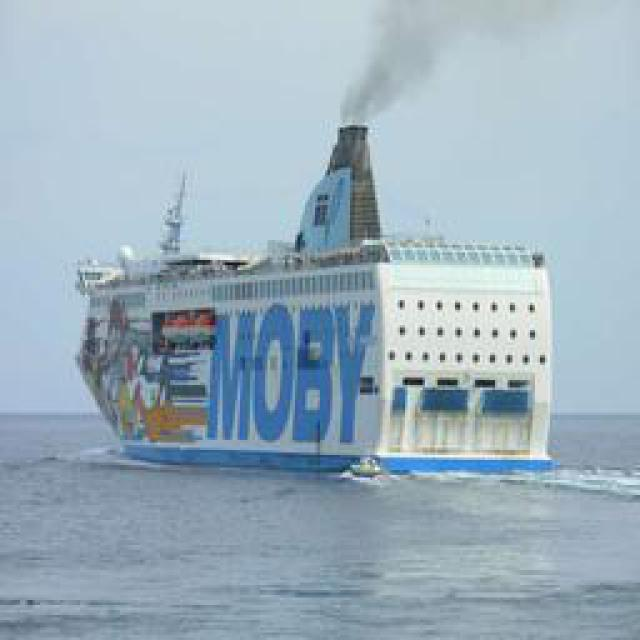Ship: (70, 120, 568, 480)
